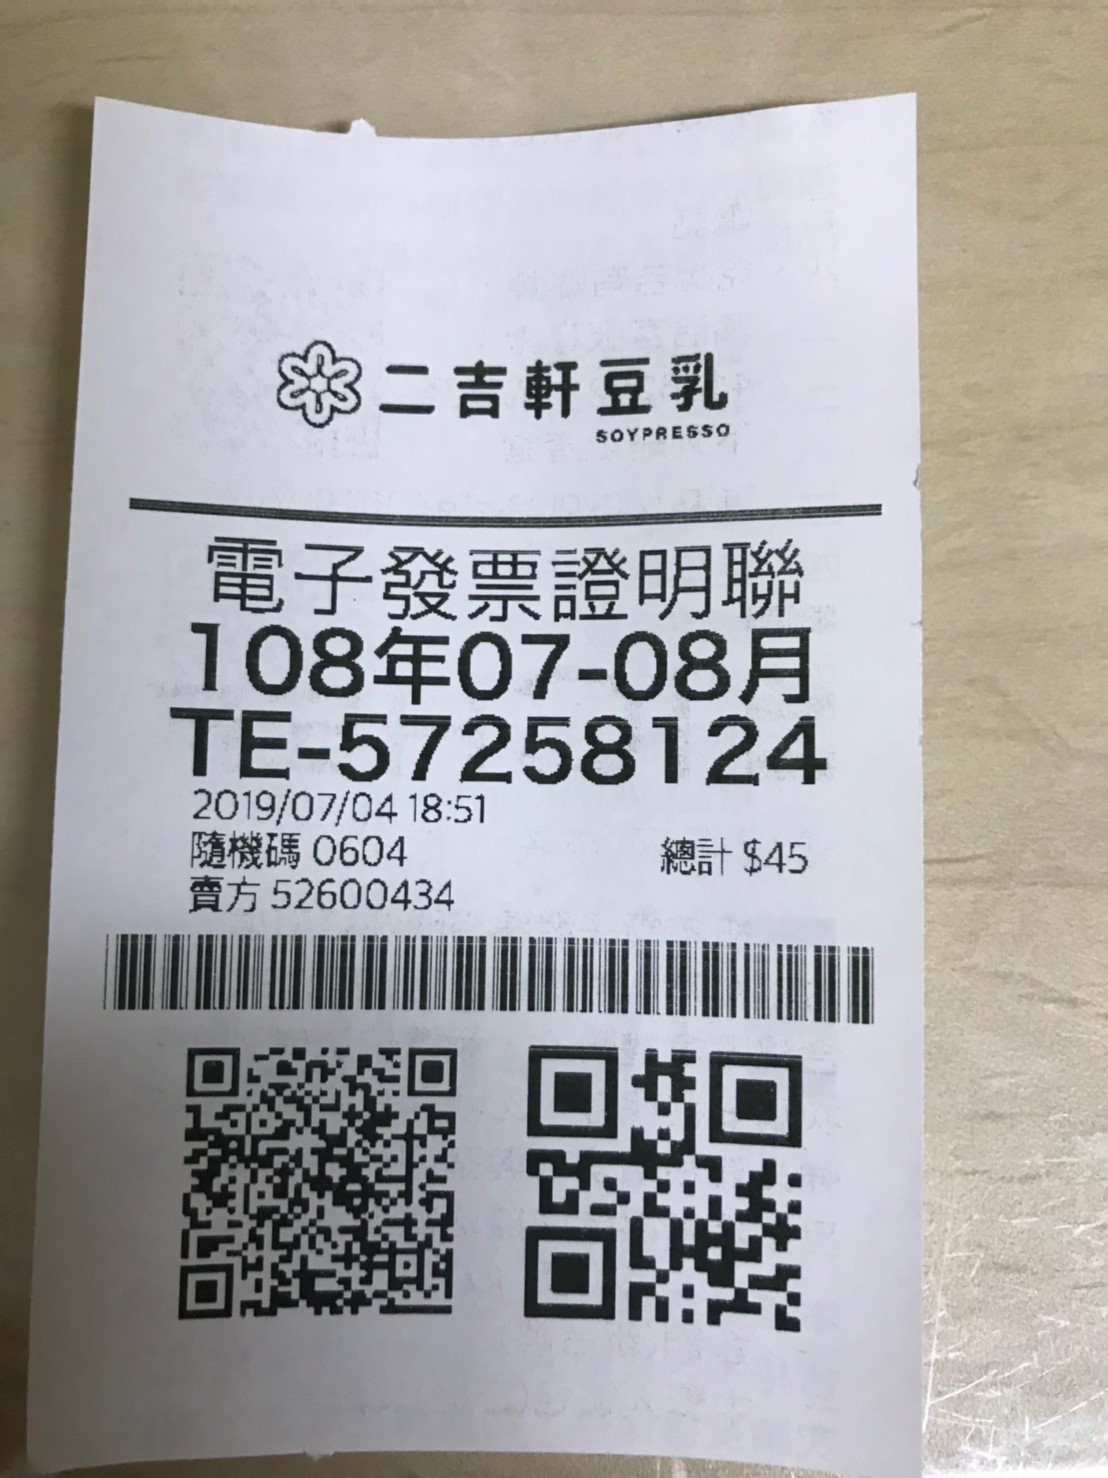Date_New: (190, 614, 812, 713)
Number_New: (335, 708, 834, 788)
